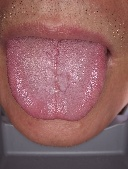tongue: (5, 45, 106, 123)
